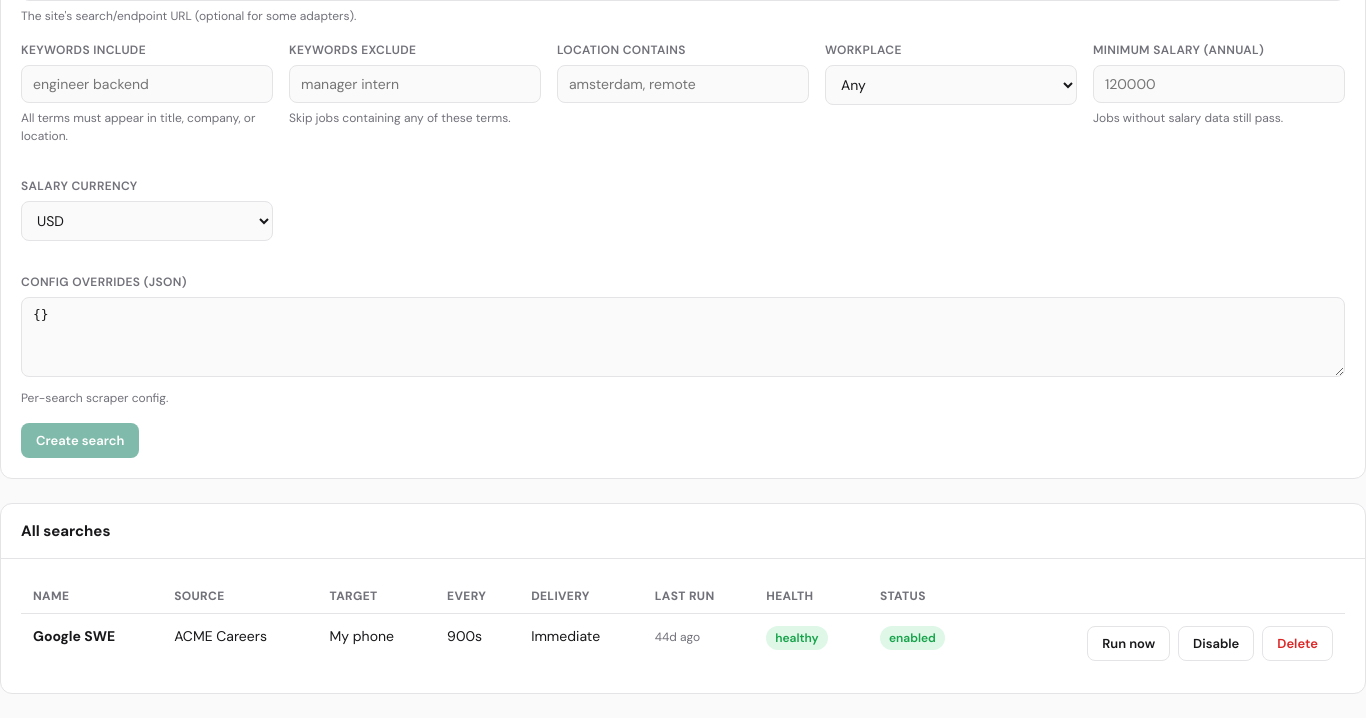
Test: SearchesPage › runs a search immediately and shows results
The image size is (1366, 718).
(page scrolled)
Expected: the text "Google SWE" is shown, [33,627,115,645]
Click the button "Run now" at coordinates (1129, 644), box [1087,626,1170,661]
(page scrolled)
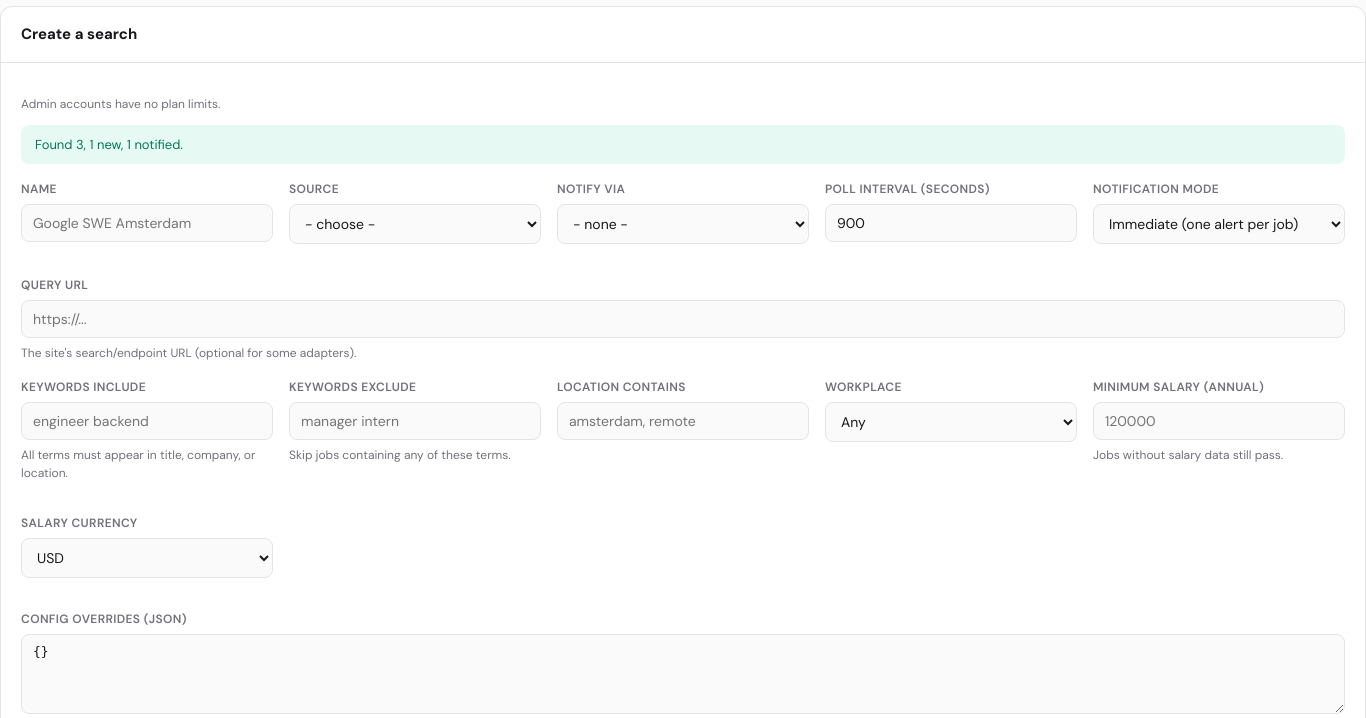
Expected: the text "Found 3, 1 new, 1 notified." is shown, [21,124,1345,164]
